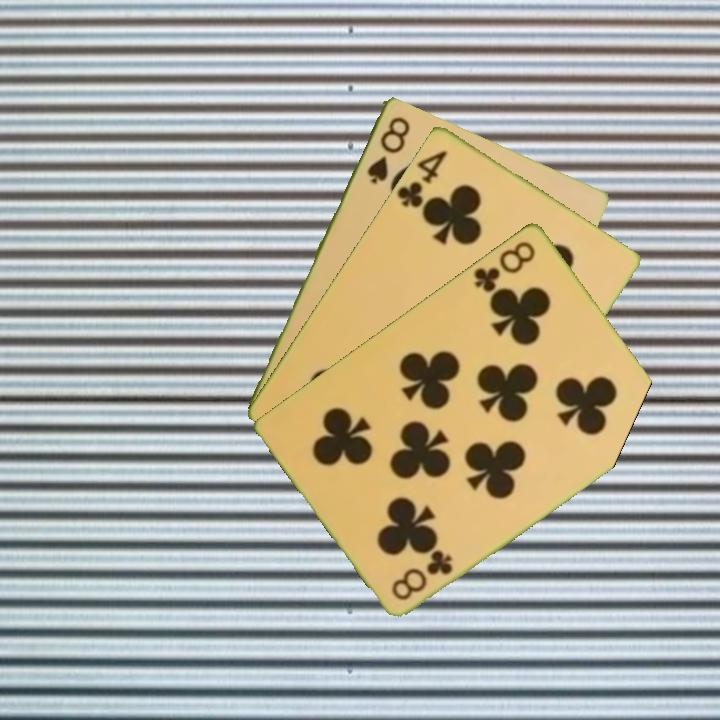4c: (393, 145, 450, 214)
8c: (470, 236, 539, 295), (388, 546, 456, 603)
8s: (363, 112, 413, 186)
